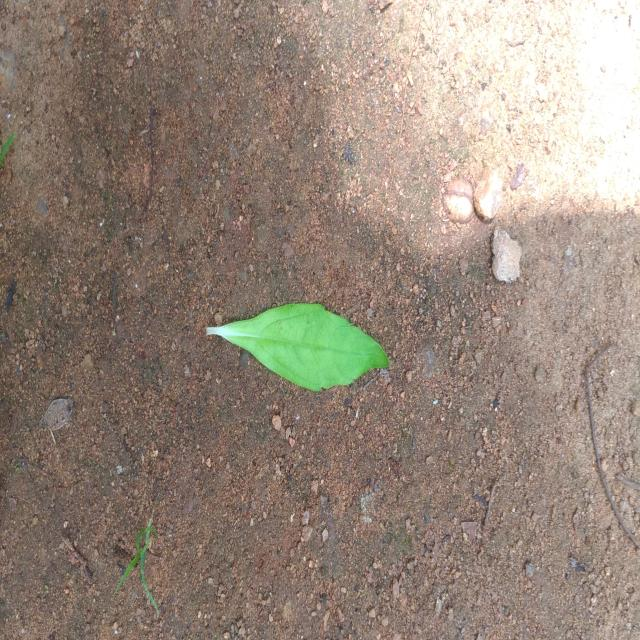bringaraja: (206, 304, 389, 391)
